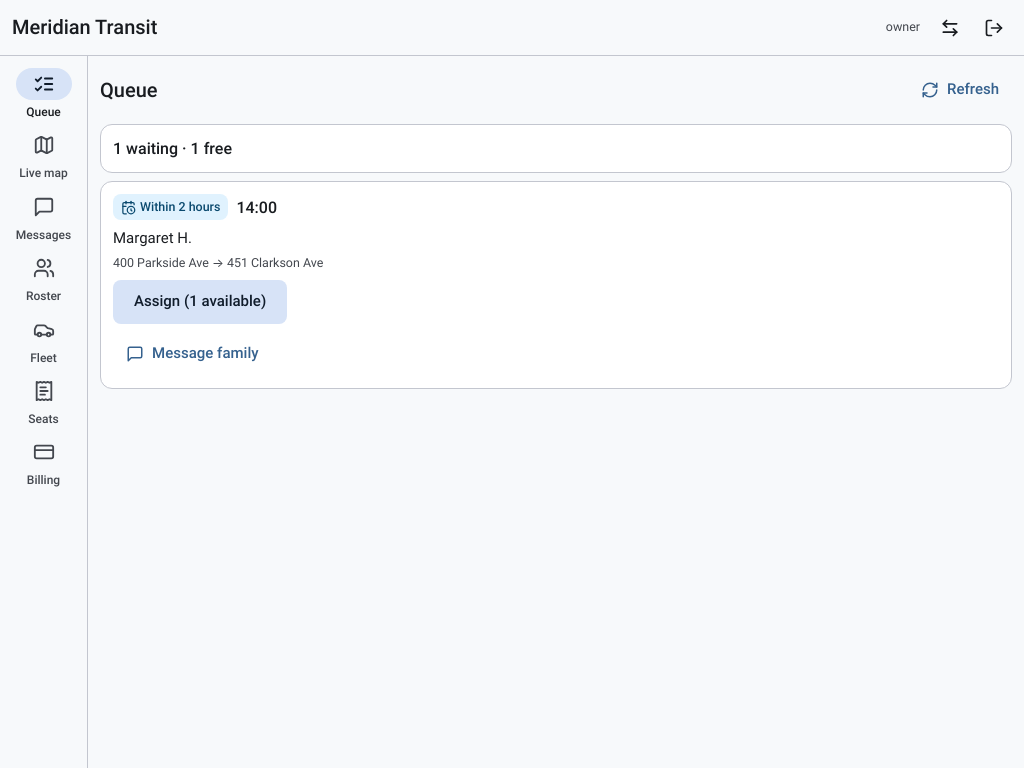
Test: signing in and choosing an operator › switching operator actually reaches the picker
The width and height of the screenshot is (1024, 768).
Expected: the heading "Queue" is shown, [100,78,158,102]
Click the button named "Switch operator".
click(950, 28)  # box [928,6,972,50]
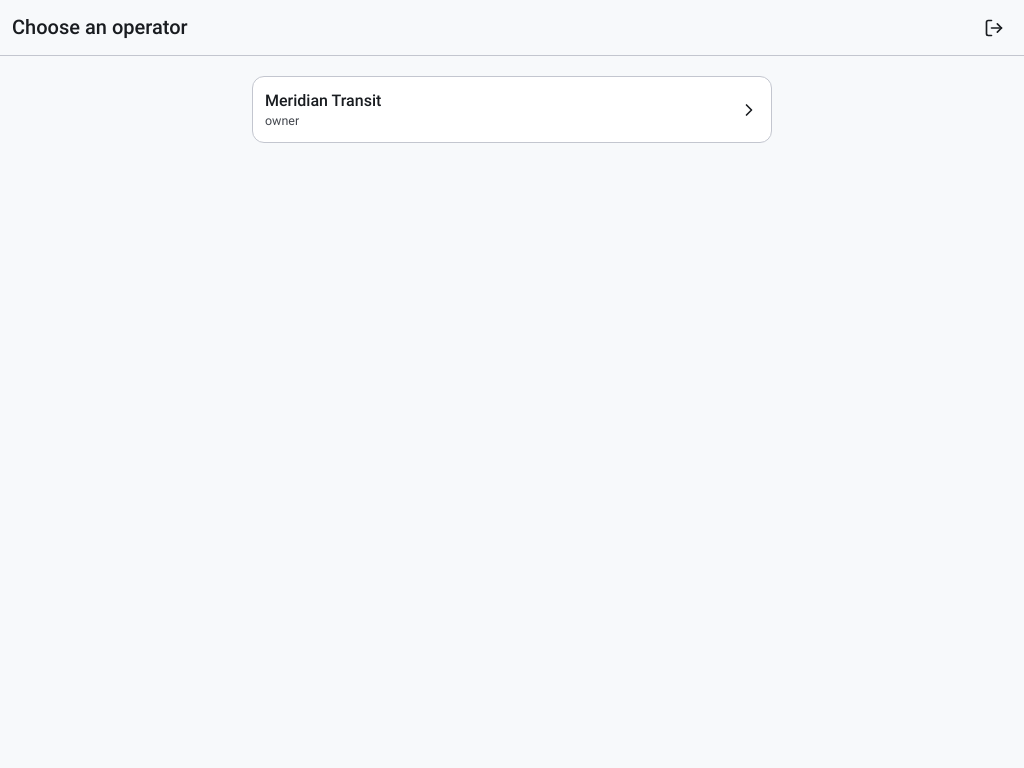
Now the heading "Choose an operator" is shown, box [12,15,188,39]
